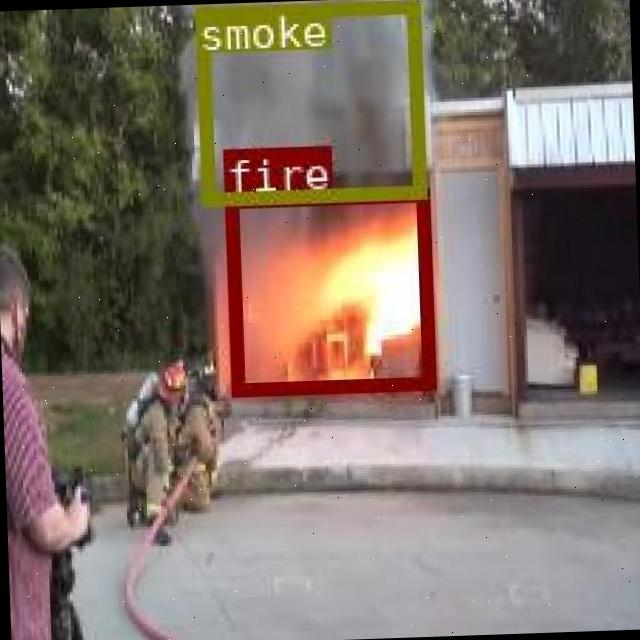fire: (223, 186, 432, 393)
smoke: (194, 0, 424, 202)
